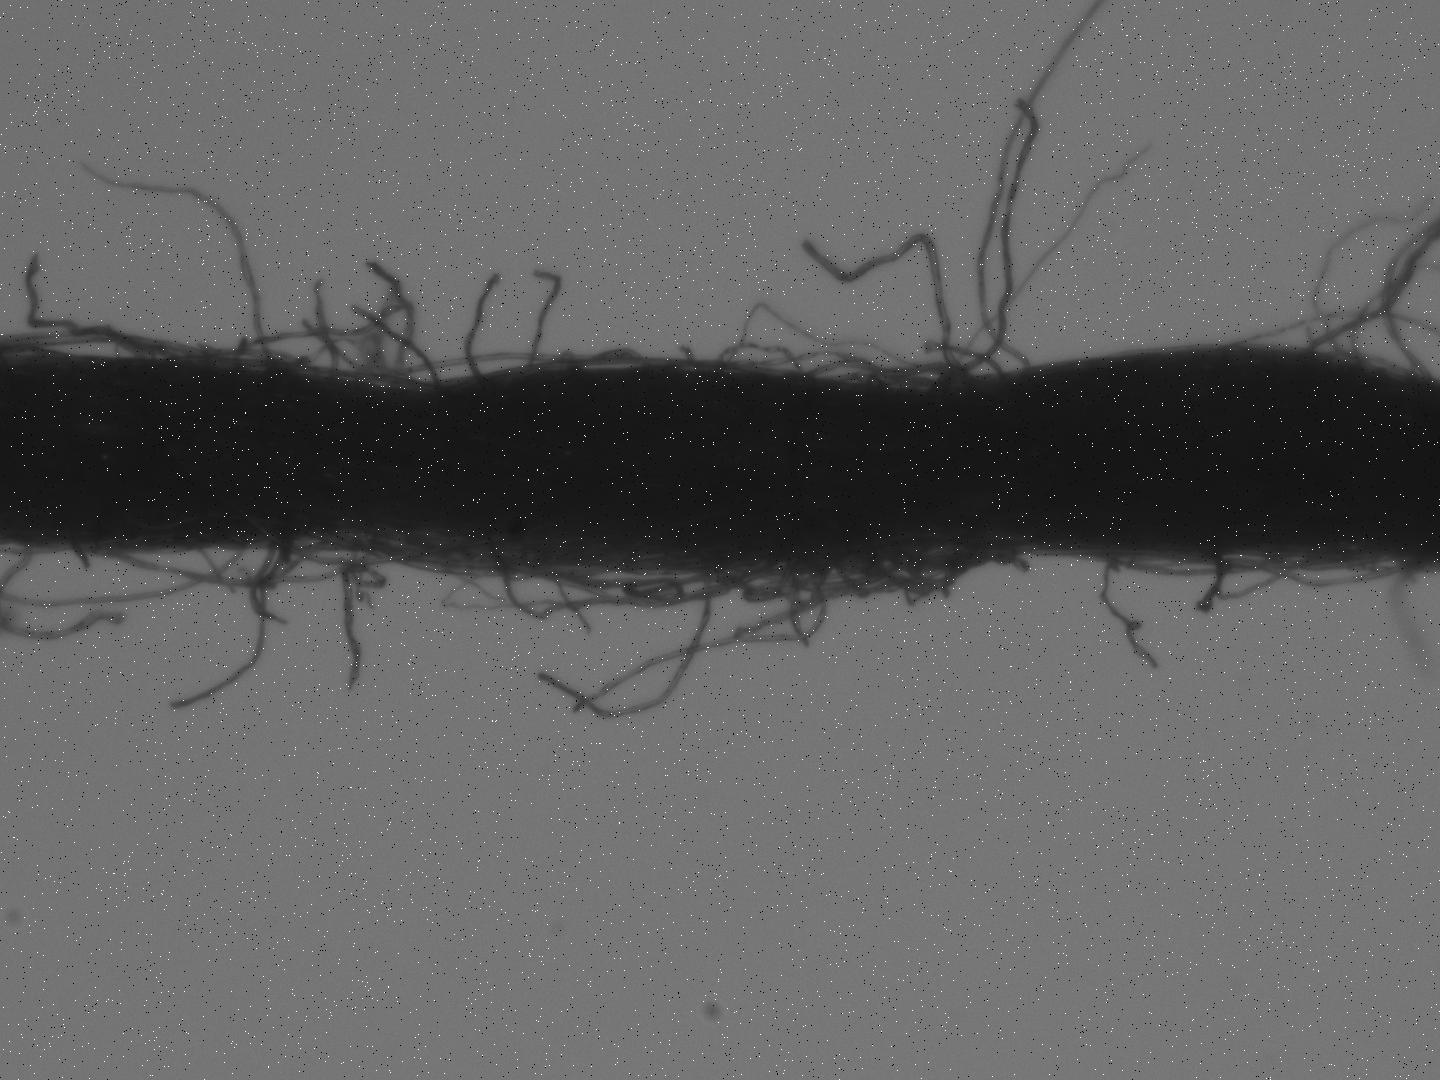loop_fiber: (505, 562, 771, 611), (88, 542, 361, 591), (880, 545, 1023, 599), (5, 328, 201, 362), (288, 335, 409, 388), (263, 531, 443, 566), (1259, 564, 1415, 592), (1213, 549, 1298, 600), (1104, 554, 1274, 577), (830, 363, 974, 388), (717, 344, 810, 382), (569, 344, 658, 370), (787, 560, 837, 605), (801, 357, 882, 383)
protruding_fiber: (77, 159, 273, 358), (539, 569, 715, 716), (802, 228, 956, 380), (962, 99, 1041, 370), (169, 537, 289, 712), (349, 304, 441, 379), (525, 264, 560, 370), (467, 272, 500, 379), (923, 340, 1007, 373), (345, 547, 357, 686)
